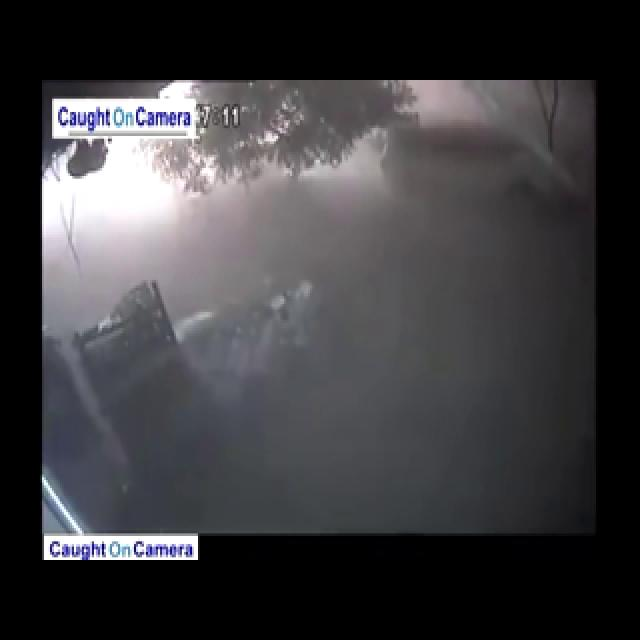explosion: (4, 44, 515, 523)
